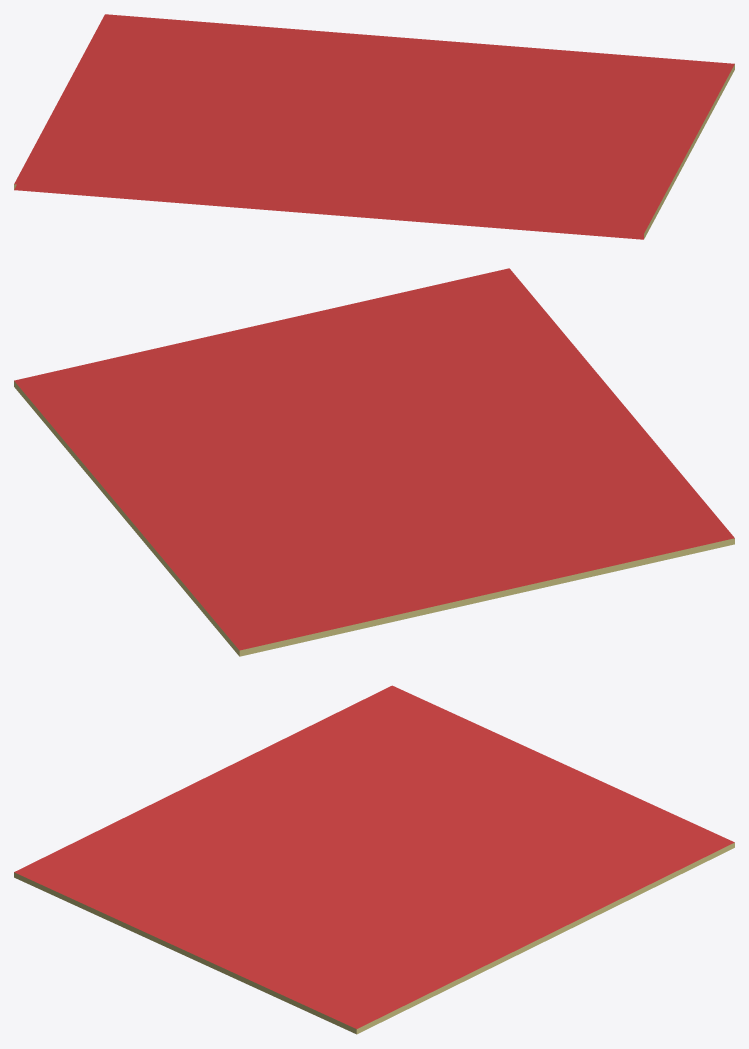
3 renders of one model, top to bottom at view 1: azimuth 30°, elevation 25°; view 2: azimuth 150°, elevation 25°; view 3: azimuth 270°, elevation 25°, orthographic. The views are drawn at different scales.
Bounding box in the file's own units: 12.55 × 12.31 × 0.722.
